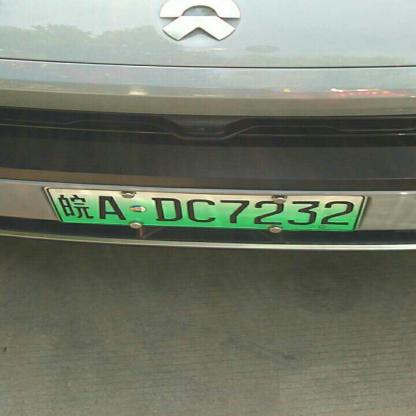lp: (45, 186, 63, 230)
